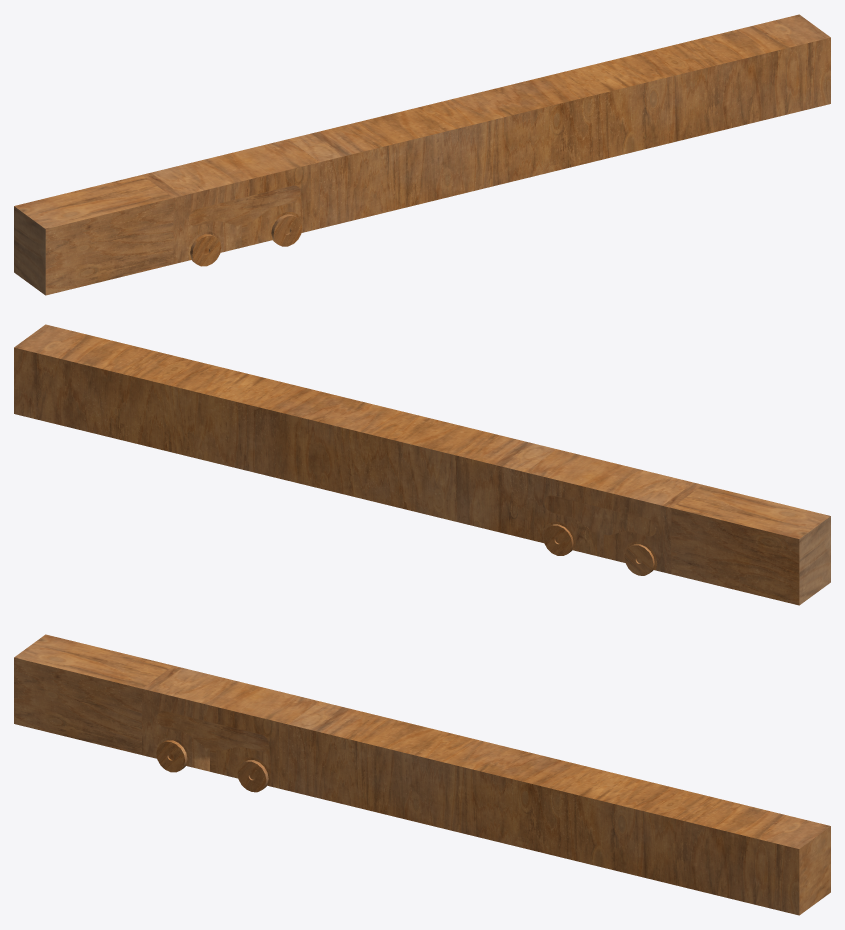
File: mutou.fbx
3 renders of one model, top to bottom at view 1: azimuth 30°, elevation 25°; view 2: azimuth 150°, elevation 25°; view 3: azimuth 330°, elevation 25°, orthographic.
Visible parts, largest first — view 1: mutou06, mutou05, mutou01, mutou07, mutou012, mutou010, mutou04; view 2: mutou06, mutou05, mutou01, mutou07, mutou010, mutou012, mutou03; view 3: mutou06, mutou05, mutou01, mutou07, mutou010, mutou012, mutou04.
Boxes of the visible parts, x1,y1,x2,y2 form: mutou06: (288, 14, 830, 228); mutou05: (14, 175, 173, 295); mutou01: (151, 140, 316, 263); mutou07: (188, 185, 300, 247); mutou012: (271, 214, 302, 246); mutou010: (190, 234, 221, 266); mutou04: (310, 160, 319, 230); mutou06: (14, 324, 556, 538); mutou05: (671, 485, 830, 605); mutou01: (528, 450, 693, 573); mutou07: (544, 495, 656, 557); mutou010: (624, 544, 654, 575); mutou012: (543, 524, 573, 555); mutou03: (525, 470, 534, 540); mutou06: (288, 701, 830, 915); mutou05: (14, 634, 172, 754); mutou01: (142, 668, 316, 788); mutou07: (157, 711, 268, 772); mutou010: (156, 740, 187, 772); mutou012: (237, 760, 268, 792); mutou04: (279, 722, 290, 790).
Size of the model in its own units: 653 by 59.03 by 50.97.
